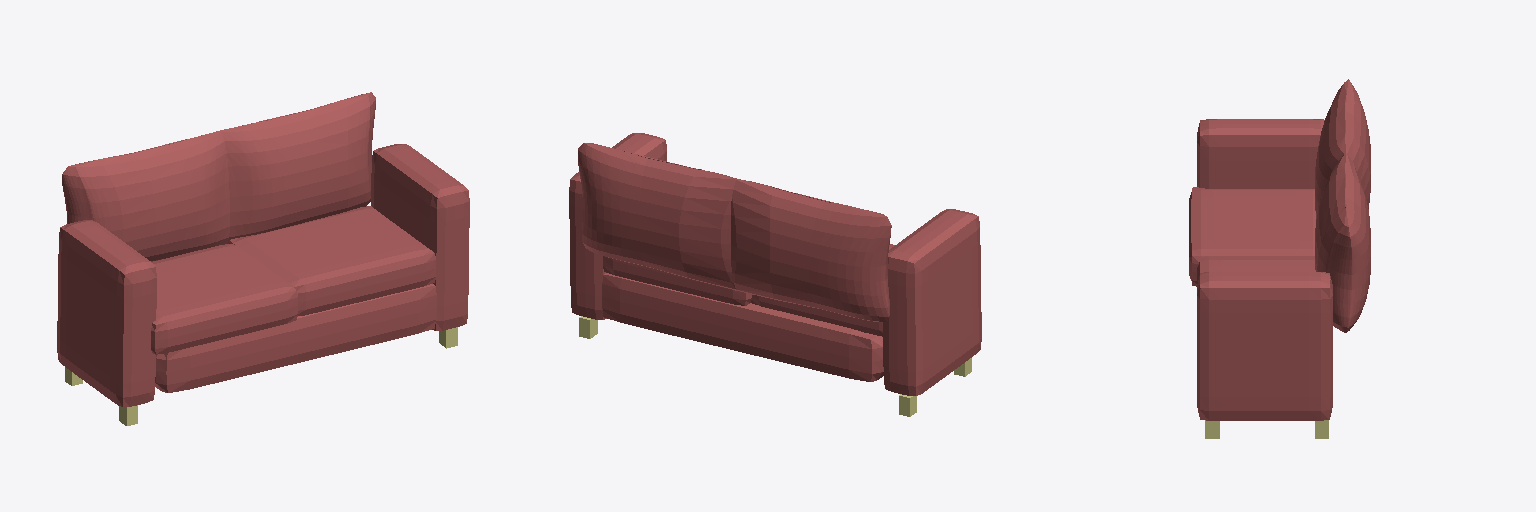
The model's file is sofa.obj.
The picture shows the model from 3 angles: view 1: azimuth 30°, elevation 25°; view 2: azimuth 150°, elevation 25°; view 3: azimuth 270°, elevation 25°; orthographic projection.
Parts seen in each view (by area): view 1: Line02, Line03, Box05, Box02, Box03, Box01, Box04; view 2: Line03, Line02, Box05, Box03, Box04, Box02, Box01; view 3: Box04, Box01, Box05, Line02, Line03, Box02.
Boxes of the visible parts, box(x1,y1,x2,y2) form: Line02: box(216, 92, 375, 243); Line03: box(62, 129, 229, 261); Box05: box(57, 220, 156, 406); Box02: box(229, 206, 435, 315); Box03: box(155, 284, 436, 392); Box01: box(151, 244, 297, 354); Box04: box(371, 144, 469, 330); Line03: box(731, 178, 891, 321); Line02: box(578, 143, 738, 290); Box05: box(883, 209, 981, 395); Box03: box(602, 273, 883, 381); Box04: box(569, 133, 666, 319); Box02: box(603, 256, 751, 305); Box01: box(751, 244, 894, 336); Box04: box(1197, 272, 1332, 420); Box01: box(1189, 187, 1315, 286); Box05: box(1197, 119, 1324, 188); Line02: box(1315, 151, 1370, 332); Line03: box(1315, 79, 1370, 218); Box02: box(1197, 256, 1315, 283).
Size of the model in its own units: 726 by 405 by 327.